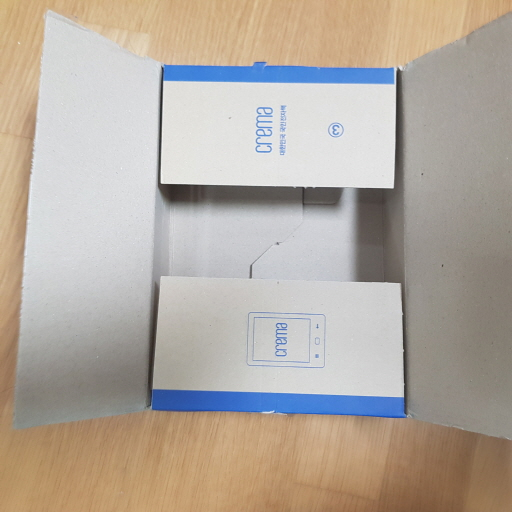Paper_0: (10, 3, 512, 442)
